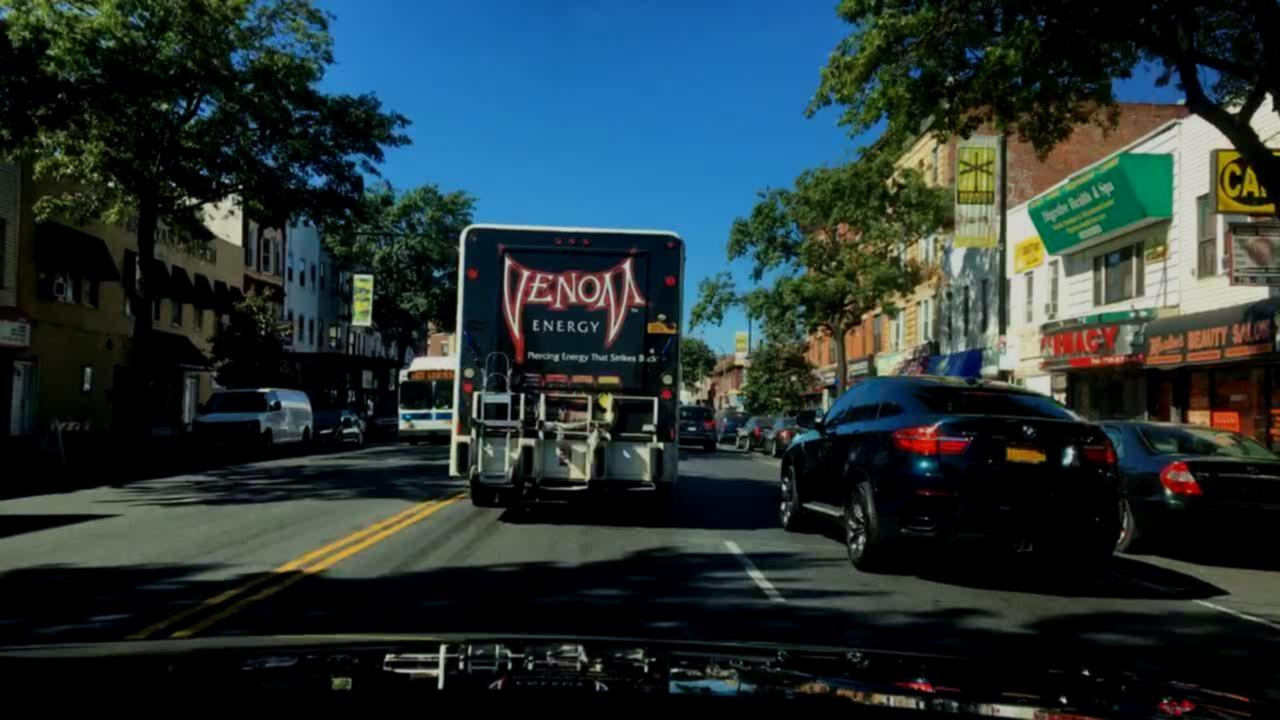bmw: (1018, 424, 1040, 441)
